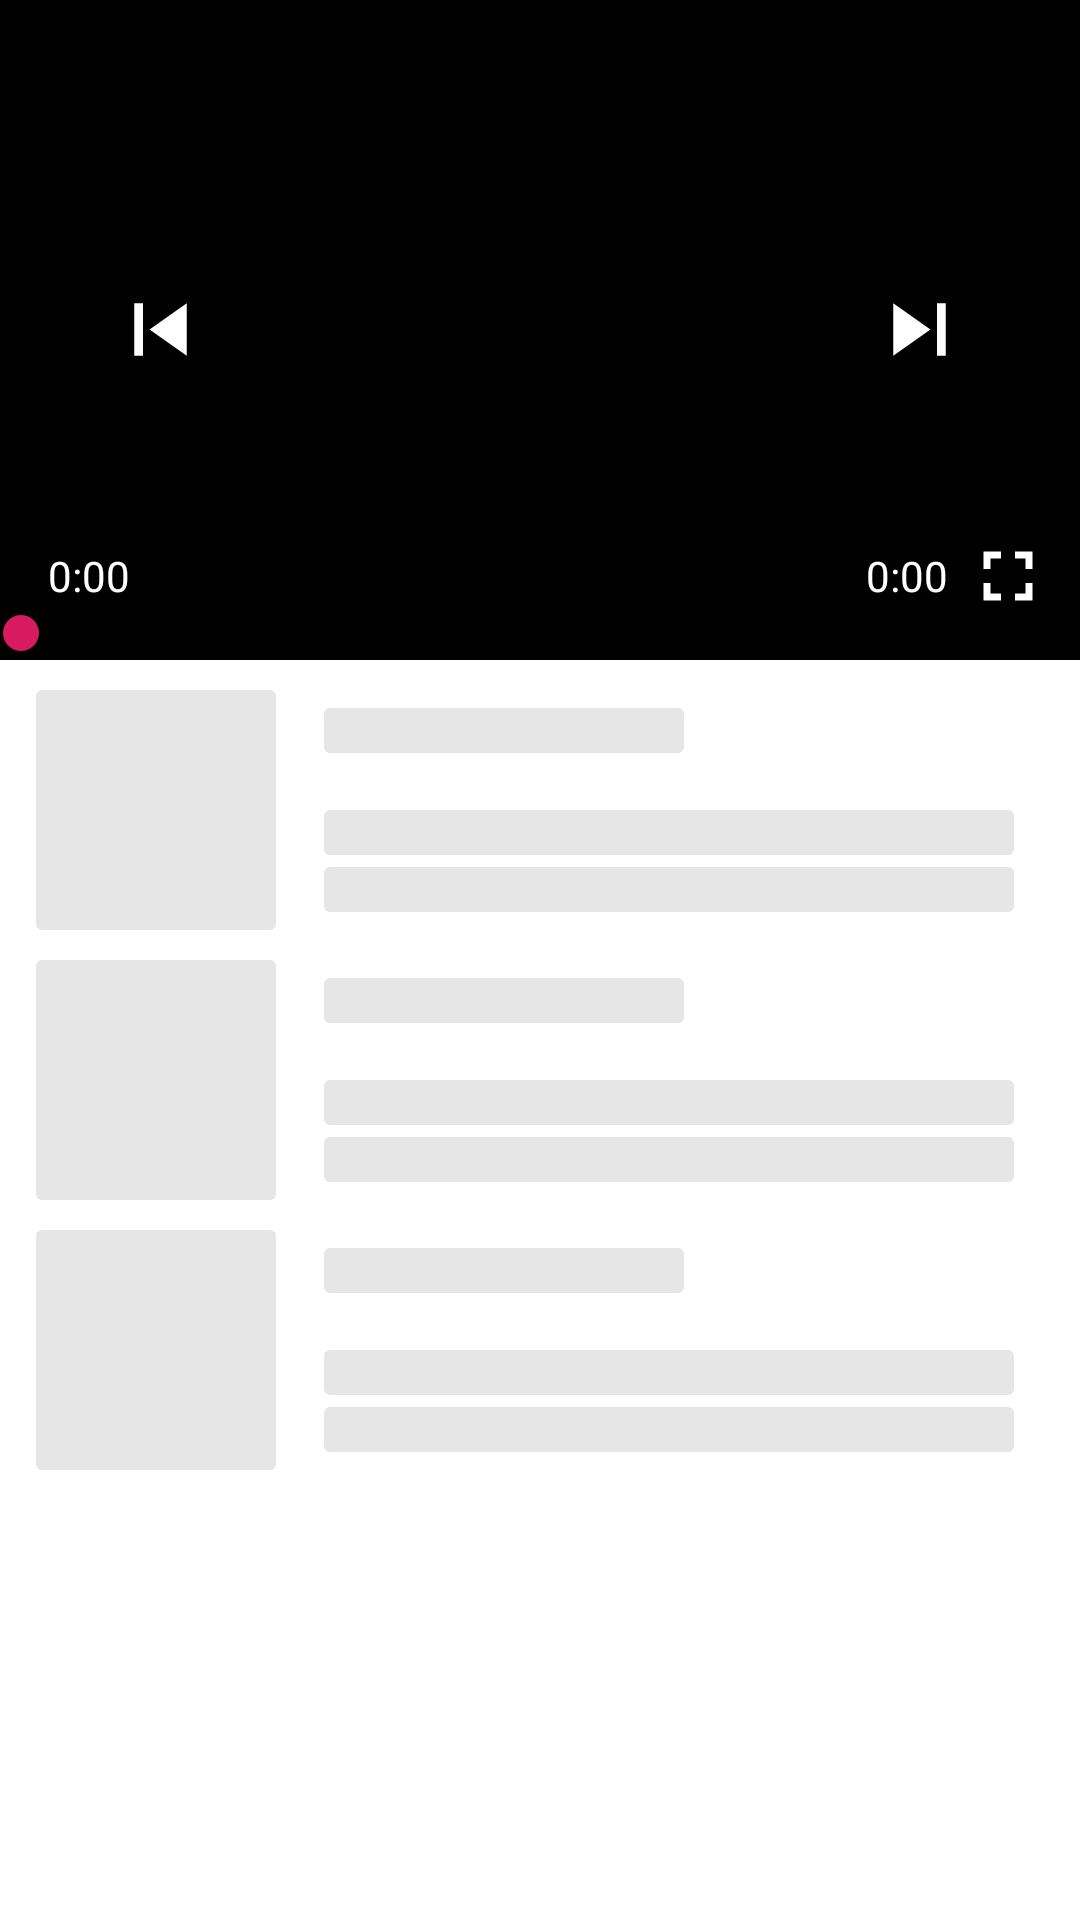

Icons on this 1080x1920 Android screen, each with its box as [left=x1, top=y1, right=x2, bottom=y2]:
fullscreen: [left=983, top=551, right=1033, bottom=601]
skip next: [left=893, top=303, right=946, bottom=356]
skip previous: [left=134, top=303, right=187, bottom=356]
